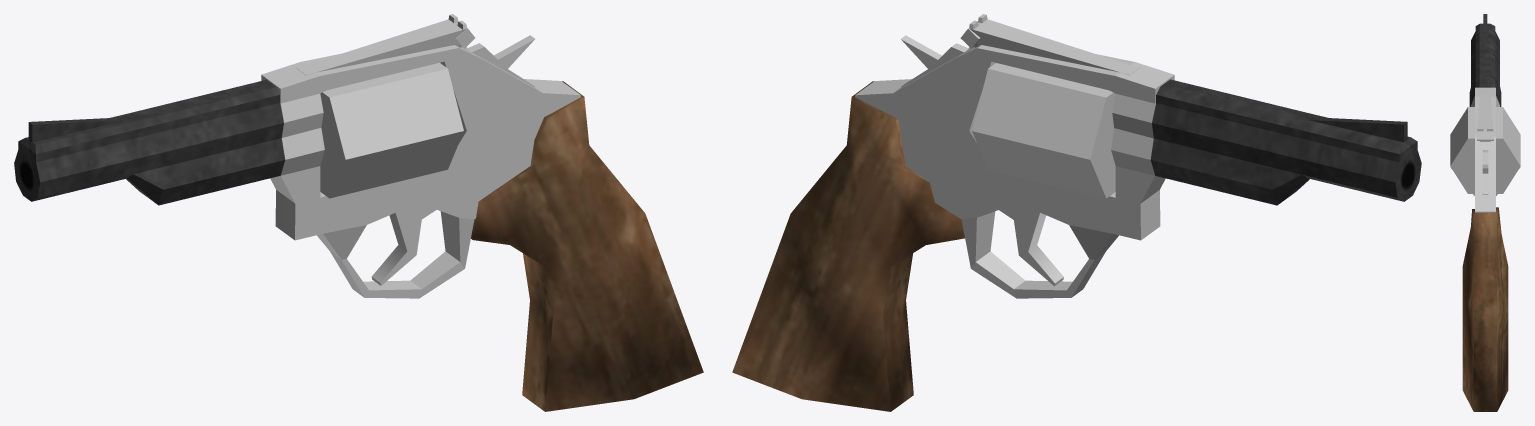
The model's file is revolver.fbx.
3 renders of one model, left to right at view 1: azimuth 30°, elevation 25°; view 2: azimuth 150°, elevation 25°; view 3: azimuth 270°, elevation 25°, orthographic. The views are drawn at different scales.
Parts seen in each view (by area): view 1: Plane, Plane.001, Plane.003, Plane.005, Plane.002, top_low, trigger_low, Plane.004; view 2: Plane, Plane.001, Plane.003, Plane.005, top_low, trigger_low, Plane.004; view 3: Plane, Plane.001, Plane.005, Plane.003, top_low, Plane.004, Cube.
Part boxes in pixels (bbox=[...]): Plane: bbox=[471, 81, 703, 411]; Plane.001: bbox=[261, 45, 580, 298]; Plane.003: bbox=[14, 80, 285, 205]; Plane.005: bbox=[320, 63, 463, 198]; Plane.002: bbox=[275, 128, 324, 240]; top_low: bbox=[297, 19, 465, 75]; trigger_low: bbox=[371, 203, 436, 285]; Plane.004: bbox=[467, 35, 534, 87]; Plane: bbox=[732, 81, 964, 411]; Plane.001: bbox=[855, 45, 1174, 298]; Plane.003: bbox=[1150, 79, 1421, 205]; Plane.005: bbox=[972, 63, 1115, 198]; top_low: bbox=[970, 19, 1139, 75]; trigger_low: bbox=[999, 203, 1063, 286]; Plane.004: bbox=[901, 35, 968, 87]; Plane: bbox=[1462, 207, 1508, 411]; Plane.001: bbox=[1450, 87, 1520, 212]; Plane.005: bbox=[1450, 107, 1520, 193]; Plane.003: bbox=[1469, 14, 1501, 106]; top_low: bbox=[1477, 94, 1493, 141]; Plane.004: bbox=[1482, 150, 1488, 194]; Cube: bbox=[1477, 131, 1493, 140].
Bounding box in the file's own units: 1264 × 731 × 212.
